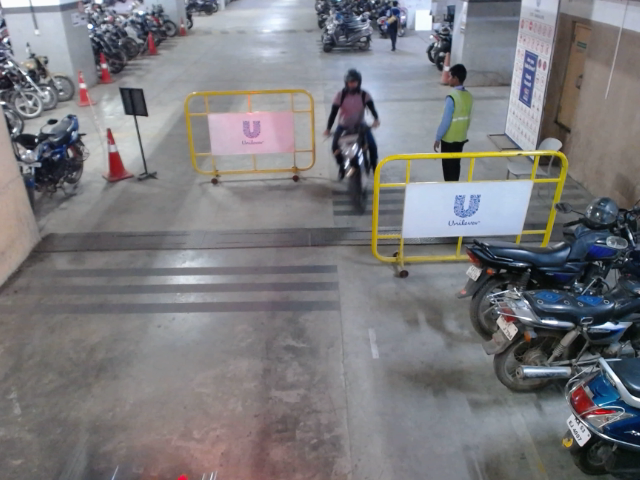with_helmet: (343, 69, 362, 92)
